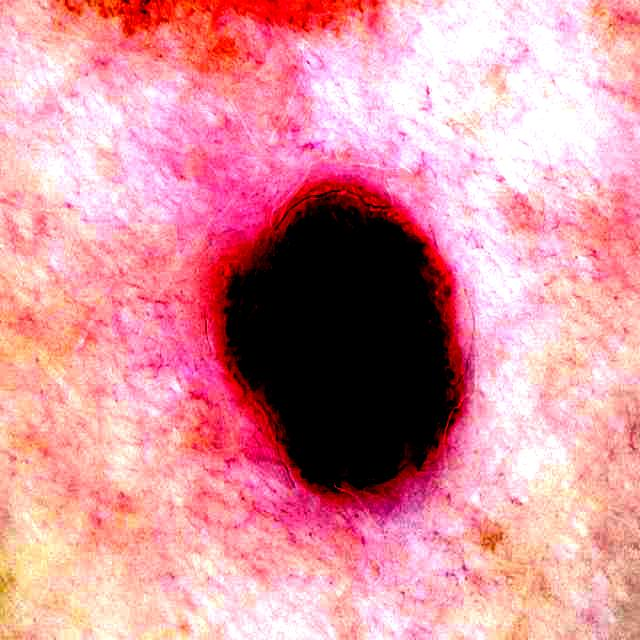VASC: (225, 189, 460, 489)
